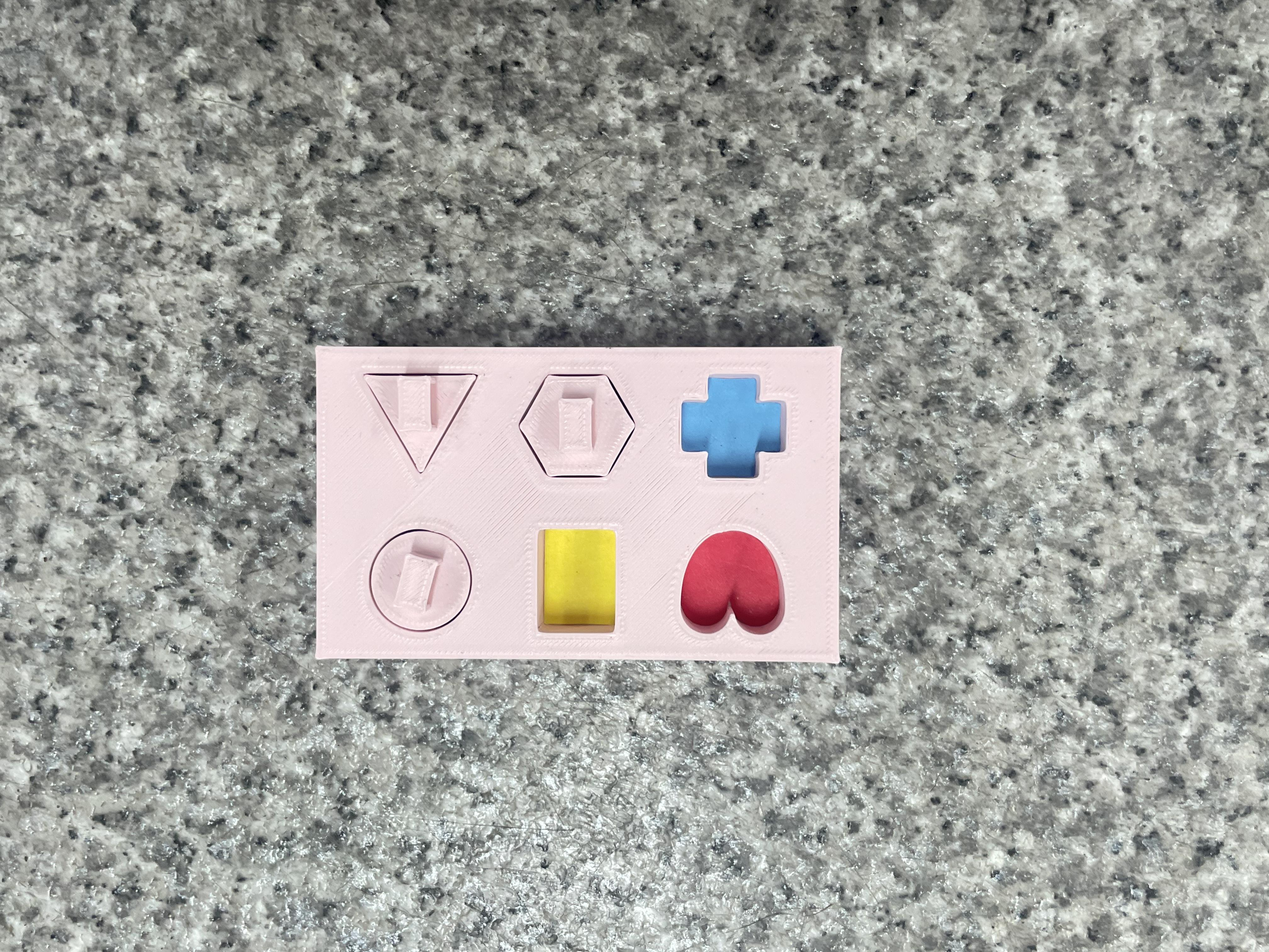unsolved: (315, 345, 844, 666)
